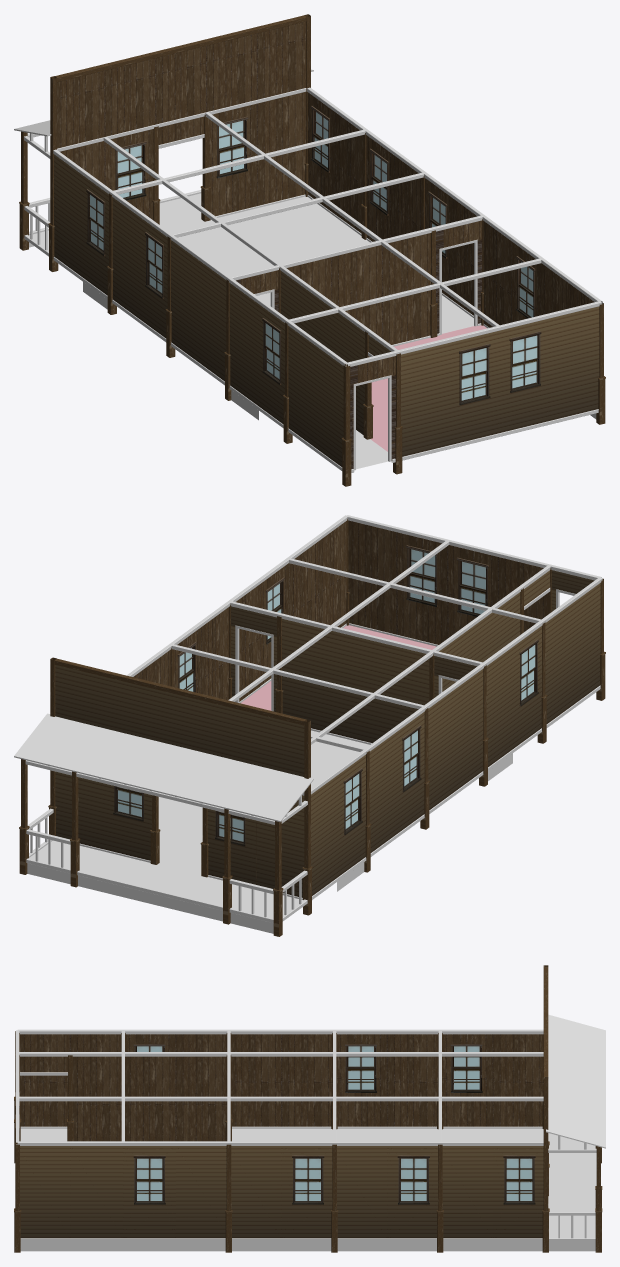
File: Restaurant Upgrade.fbx
3 views of the same model, one above another, from view 1: azimuth 30°, elevation 25°; view 2: azimuth 150°, elevation 25°; view 3: azimuth 270°, elevation 25° (orthographic). The views are drawn at different scales.
Parts seen in each view (by area): view 1: Cube.118, Cube.116, Cube.098, Cube.097, Cube.001, Cube.244, Cube.128, Cube.167, Cube.151, Cube.165, Cube.166, Cube.168 (+45 smaller); view 2: Cube.066, Cube.063, Cube.151, Cube.116, Cube.098, Cube.244, Cube.118, Cube.128, Cube.150, Cube.106, Cube.082, Cube.107 (+52 smaller); view 3: Cube.114, Cube.111, Cube.110, Cube.115, Cube.140, Cube.147, Cube.129, Cube.102, Cube.104, Cube.117, Cube.108, Cube.106 (+47 smaller).
Boxes of the visible parts, box(x1,y1,x2,y2) form: Cube.118: box(449, 330, 499, 445); Cube.116: box(500, 318, 550, 432); Cube.098: box(550, 306, 599, 420); Cube.097: box(401, 343, 448, 456); Cube.001: box(257, 92, 305, 205); Cube.244: box(382, 233, 430, 344); Cube.128: box(209, 103, 257, 216); Cube.167: box(206, 33, 257, 111); Cube.151: box(331, 245, 382, 338); Cube.165: box(105, 58, 155, 136); Cube.166: box(156, 46, 206, 124); Cube.168: box(257, 21, 305, 99); Cube.066: box(172, 753, 313, 824); Cube.063: box(14, 713, 153, 788); Cube.151: box(330, 631, 381, 743); Cube.116: box(397, 532, 447, 644); Cube.098: box(348, 520, 396, 634); Cube.244: box(282, 618, 330, 732); Cube.118: box(447, 545, 498, 638); Cube.128: box(103, 783, 151, 860); Cube.150: box(381, 643, 429, 736); Cube.106: box(396, 712, 424, 833); Cube.082: box(256, 795, 304, 897); Cube.107: box(455, 669, 483, 790); Cube.114: box(70, 1146, 123, 1238); Cube.111: box(123, 1146, 175, 1238); Cube.110: box(281, 1146, 332, 1238); Cube.115: box(337, 1146, 387, 1238); Cube.140: box(20, 1146, 70, 1238); Cube.147: box(231, 1146, 281, 1238); Cube.129: box(176, 1146, 226, 1238); Cube.102: box(493, 1146, 543, 1238); Cube.104: box(387, 1146, 437, 1238); Cube.117: box(442, 1146, 492, 1238); Cube.108: box(281, 1034, 332, 1126); Cube.106: box(337, 1034, 387, 1126).
Size of the model in its own units: 1050 by 725 by 2241.
